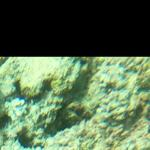dead: (1, 56, 149, 148)
